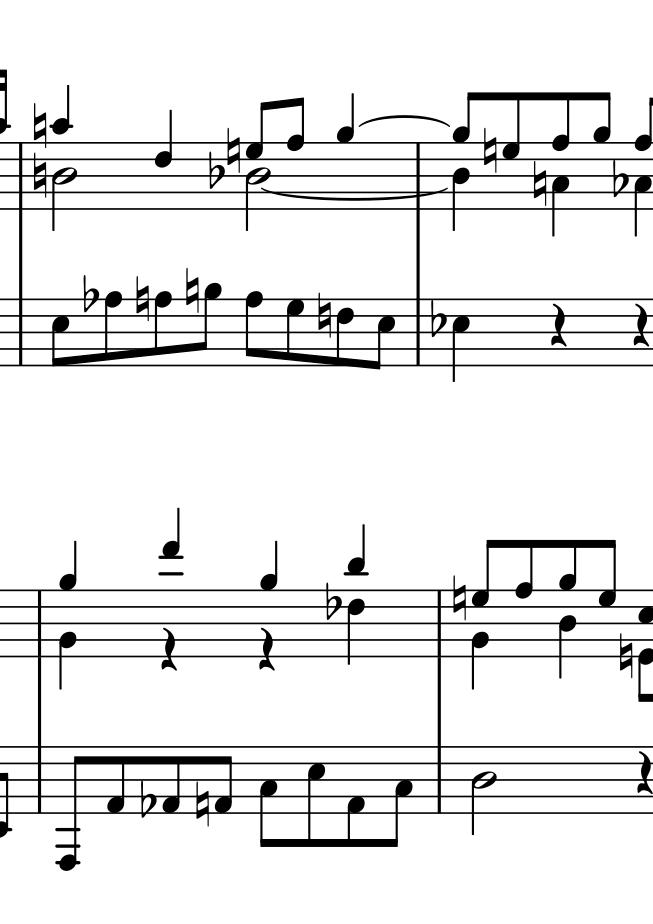2_4: (51, 141, 76, 232), (471, 748, 497, 832)
4_2: (57, 589, 76, 692)
4_3: (633, 141, 653, 239), (550, 141, 570, 237)
4_4: (450, 141, 469, 232), (558, 590, 576, 679)
4_5: (451, 296, 471, 386)
4_6: (154, 109, 173, 212)
4_6_11: (346, 522, 369, 667)
4_9: (336, 92, 356, 212)
8_-6: (56, 746, 83, 871)
8_1: (344, 746, 366, 851), (105, 744, 126, 815), (161, 743, 181, 816), (213, 744, 233, 816)
8_3: (391, 744, 415, 850), (257, 745, 280, 850)
8_5: (306, 743, 326, 849), (369, 298, 397, 371), (50, 296, 70, 371)
8_6: (335, 298, 355, 370)
8_7: (598, 539, 618, 659), (502, 91, 520, 214), (285, 299, 306, 368)
8_8: (286, 97, 306, 211), (516, 539, 534, 659), (153, 291, 174, 369), (244, 290, 265, 368), (103, 291, 123, 369)
8_9: (195, 282, 223, 368), (593, 91, 612, 211)
Brace: (262, 187, 449, 200), (359, 114, 450, 127)
Flat: (138, 777, 157, 820), (428, 297, 447, 339), (207, 149, 224, 190), (324, 581, 341, 622), (611, 158, 627, 200), (81, 272, 96, 314)
Natural: (481, 125, 499, 176), (183, 266, 200, 316), (451, 573, 468, 623), (531, 161, 548, 209), (194, 778, 210, 828), (225, 126, 241, 176), (32, 100, 48, 149), (32, 153, 48, 202), (134, 274, 150, 323), (316, 293, 333, 339), (618, 633, 634, 680)
Rests4: (256, 626, 277, 675), (548, 303, 569, 349), (630, 302, 650, 348), (159, 626, 178, 674), (635, 747, 652, 796)
Single_barline: (31, 745, 47, 814), (431, 746, 448, 810), (411, 144, 427, 210), (410, 297, 425, 367), (31, 591, 47, 656), (13, 298, 28, 367), (13, 142, 28, 209), (432, 590, 447, 655)
